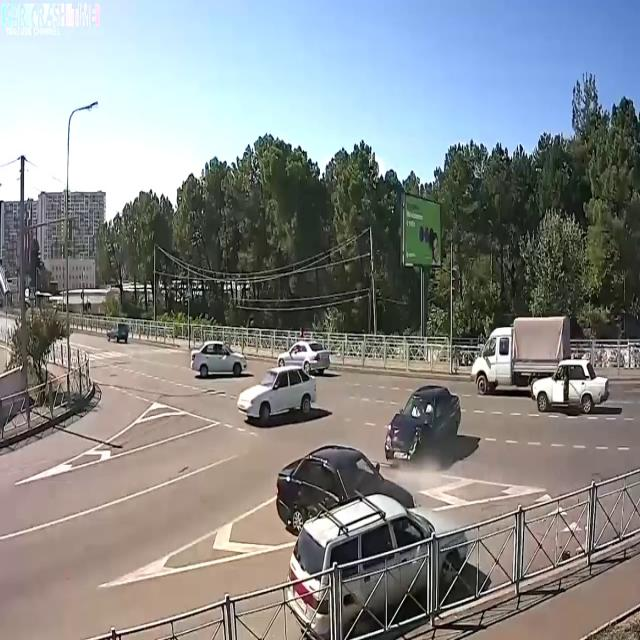Accident: (356, 354, 471, 538)
